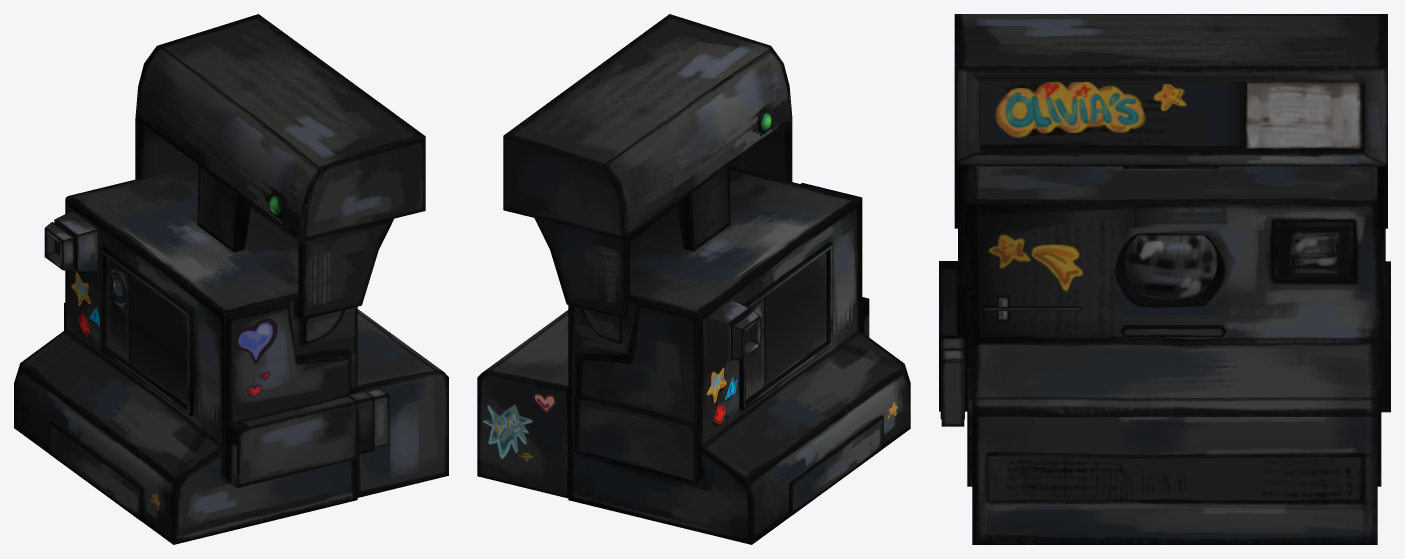
File: Polaroid Camera.glb
3 renders of one model, left to right at view 1: azimuth 30°, elevation 25°; view 2: azimuth 150°, elevation 25°; view 3: azimuth 270°, elevation 25°, orthographic. The views are drawn at different scales.
Visible parts, largest first — view 1: Camera.001; view 2: Camera.001; view 3: Camera.001.
Boxes of the visible parts, x1,y1,x2,y2 form: Camera.001: (14,14,448,544); Camera.001: (477,14,910,544); Camera.001: (939,14,1390,544).
Size of the model in its own units: 0.7395 by 0.8905 by 0.7979.
Materials: 1 (1 with a texture image).
